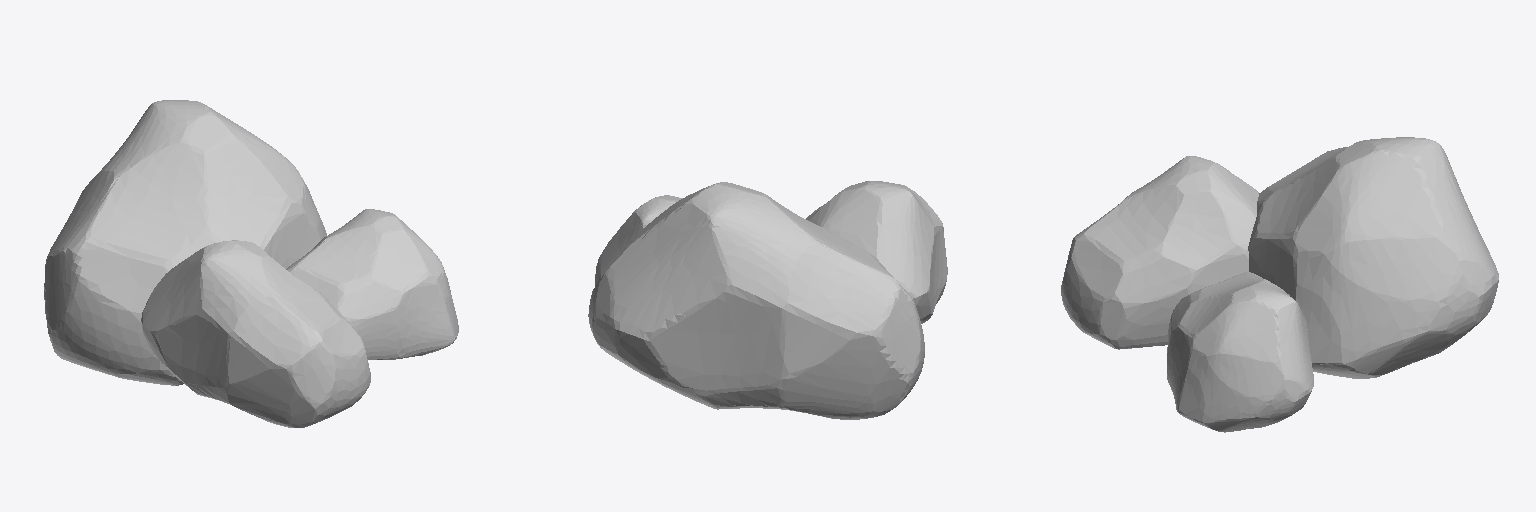
File: small_rock_group_2.obj
The picture shows the model from 3 angles: view 1: azimuth 30°, elevation 25°; view 2: azimuth 150°, elevation 25°; view 3: azimuth 270°, elevation 25°; orthographic projection.
Visible parts, largest first — view 1: small_rock_group_2; view 2: small_rock_group_2; view 3: small_rock_group_2.
Boxes of the visible parts, box(x1,y1,x2,y2) form: small_rock_group_2: box(44, 100, 458, 427); small_rock_group_2: box(588, 181, 947, 419); small_rock_group_2: box(1061, 137, 1498, 432).
Bounding box in the file's own units: 5.32 × 3.13 × 5.79.